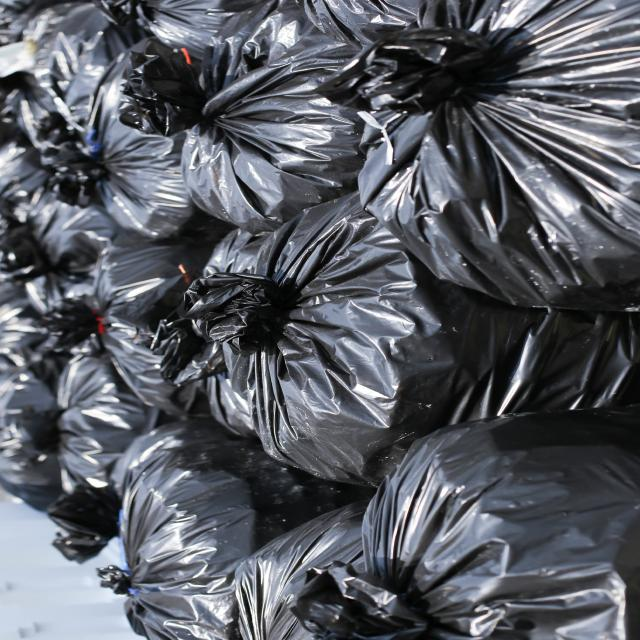Single-layer Plastic: (180, 192, 637, 485), (320, 0, 639, 310), (296, 408, 639, 640), (99, 420, 367, 640), (120, 0, 363, 232), (25, 235, 216, 416), (0, 352, 158, 562), (0, 0, 261, 126), (41, 54, 194, 239)
